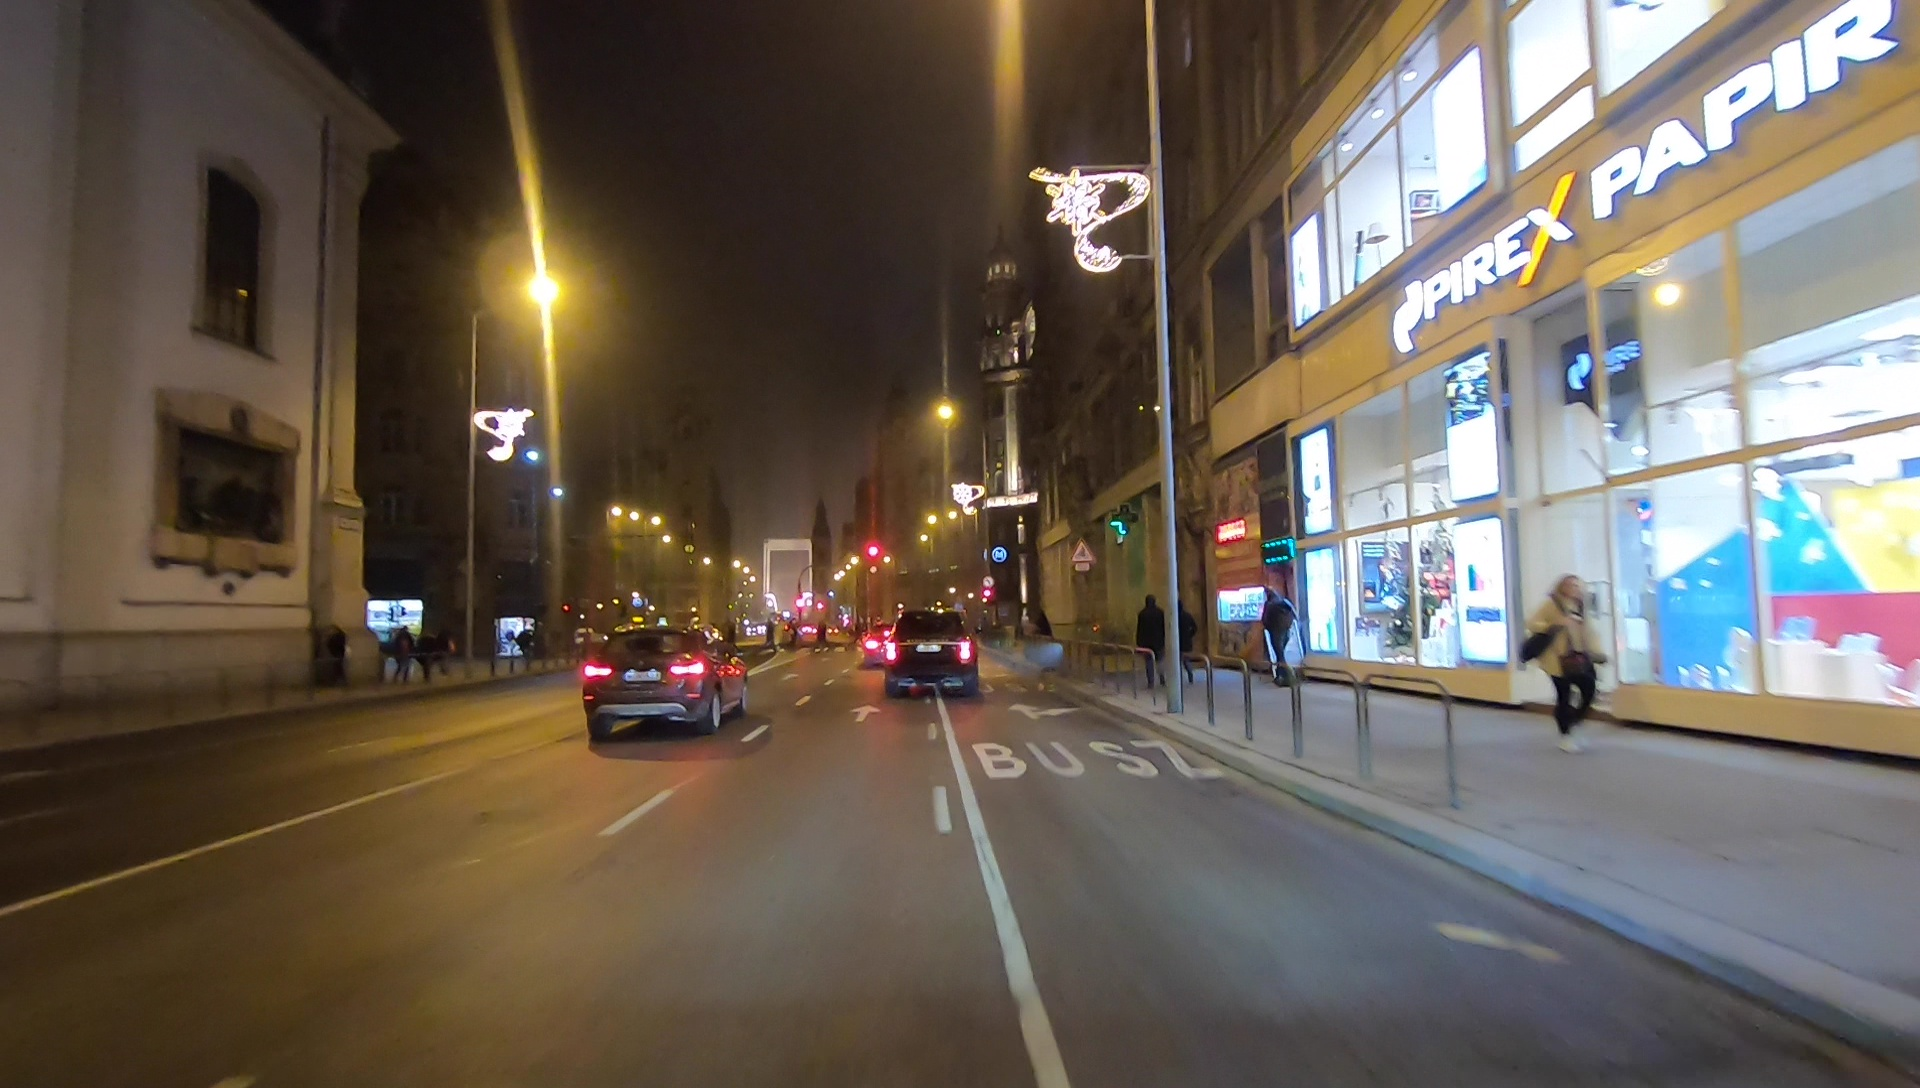person: (1528, 573, 1612, 754), (1258, 586, 1306, 691), (1134, 593, 1165, 700), (321, 625, 346, 690), (393, 623, 416, 683), (415, 628, 434, 689)
